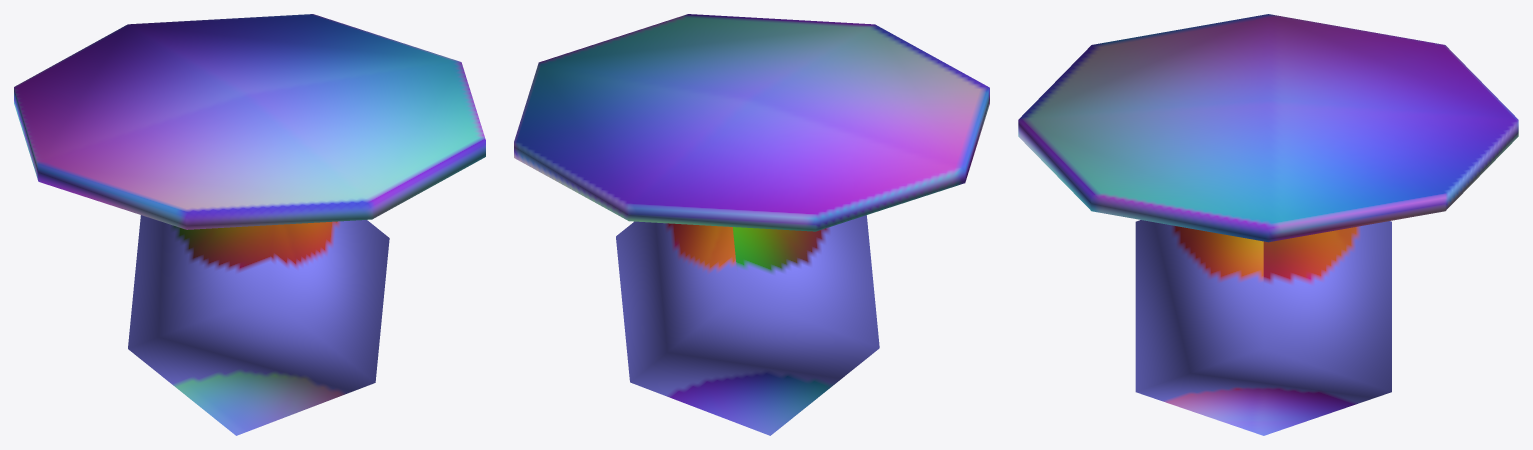
The model's file is OrionNucleo.obj.
3 views of the same model, side by side, from view 1: azimuth 30°, elevation 25°; view 2: azimuth 150°, elevation 25°; view 3: azimuth 270°, elevation 25° (orthographic). The views are drawn at different scales.
Parts seen in each view (by area): view 1: Sphere.028_Sphere.029; view 2: Sphere.028_Sphere.029; view 3: Sphere.028_Sphere.029.
Boxes of the visible parts, box(x1,y1,x2,y2) form: Sphere.028_Sphere.029: box(14, 14, 485, 435); Sphere.028_Sphere.029: box(514, 14, 989, 435); Sphere.028_Sphere.029: box(1018, 14, 1518, 435).
Bounding box in the file's own units: 1.91 × 1.44 × 1.91.
